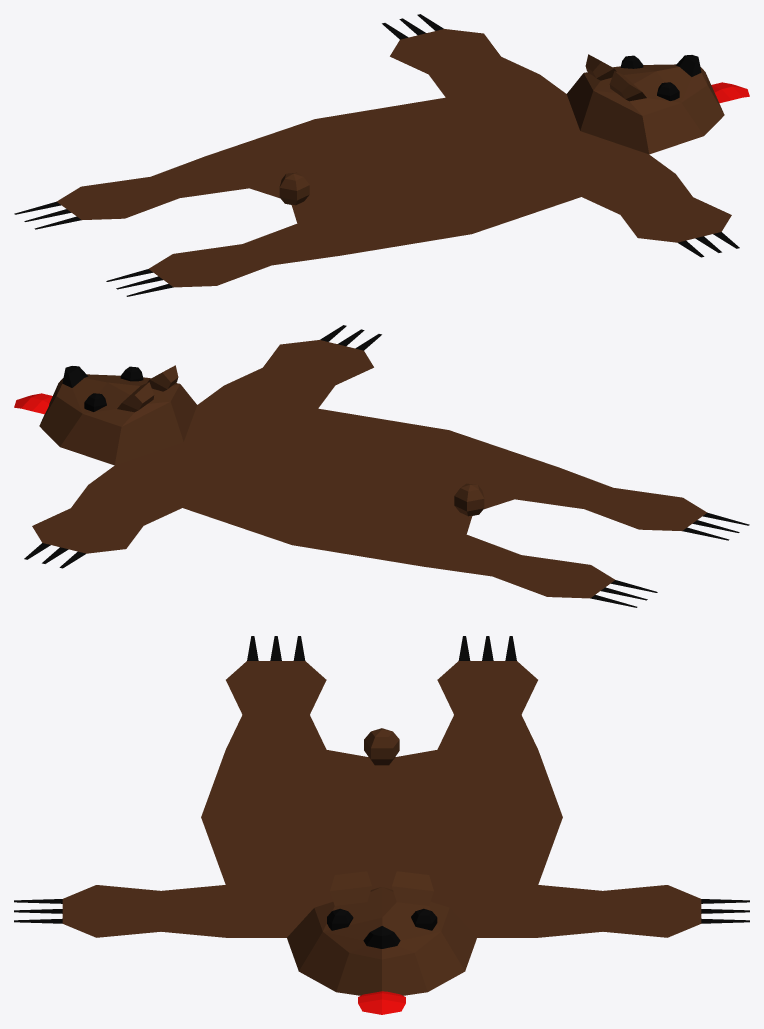
The model's file is BearRug.fbx.
The picture shows the model from 3 angles, top to bottom: view 1: azimuth 30°, elevation 25°; view 2: azimuth 150°, elevation 25°; view 3: azimuth 270°, elevation 25°; orthographic projection. The views are drawn at different scales.
Parts seen in each view (by area): view 1: BearRug; view 2: BearRug; view 3: BearRug.
Boxes of the visible parts, x1,y1,x2,y2 form: BearRug: (14,14,749,296); BearRug: (14,325,749,607); BearRug: (14,636,749,1014).
Bounding box in the file's own units: 505 × 43.88 × 413.
